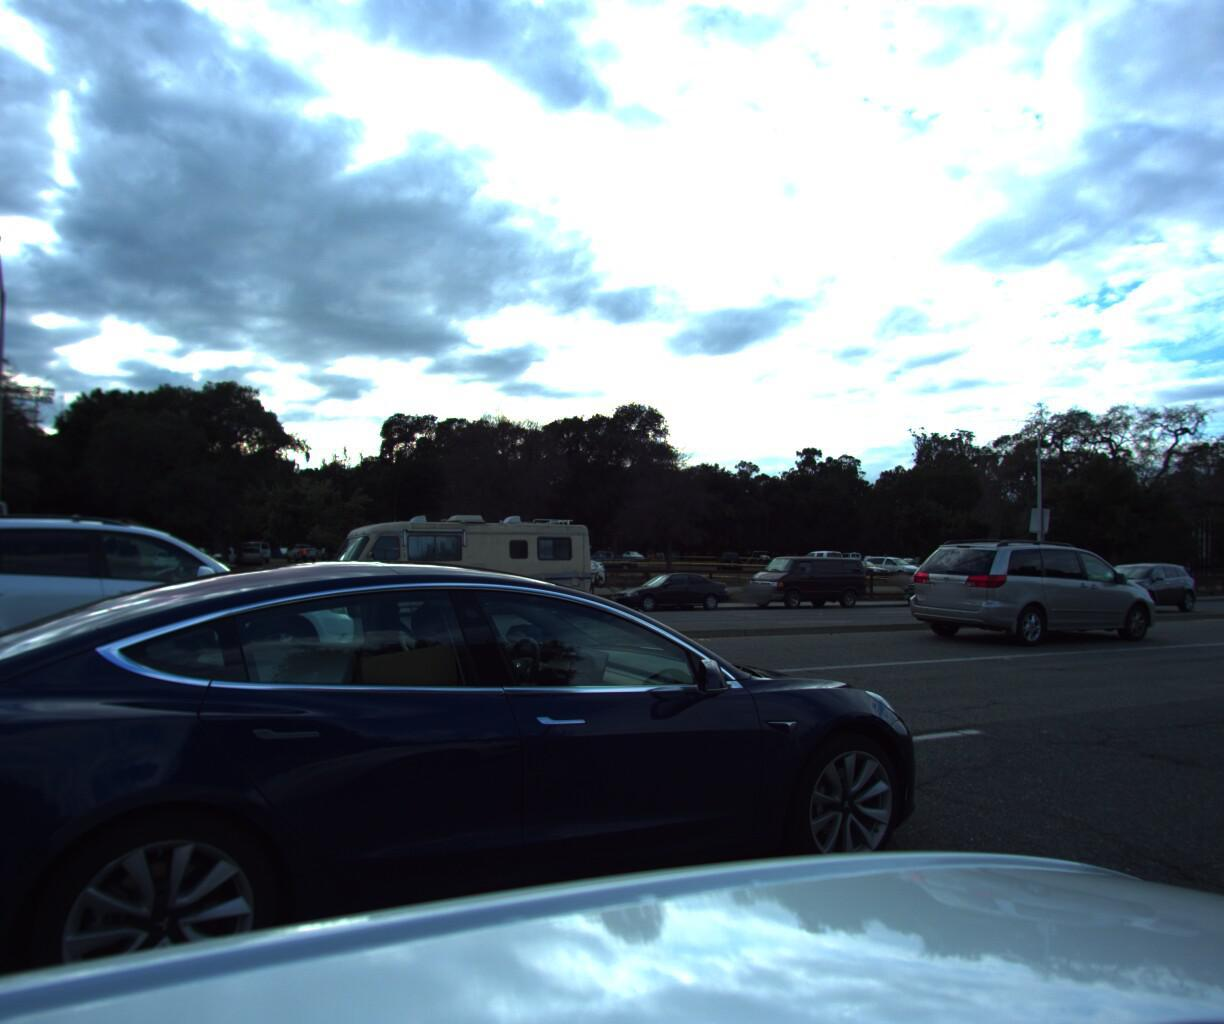car: (898, 528, 1166, 644), (65, 562, 283, 628), (739, 551, 871, 611), (1073, 555, 1195, 612), (597, 568, 737, 610)
other_vehicle: (307, 501, 599, 626)
